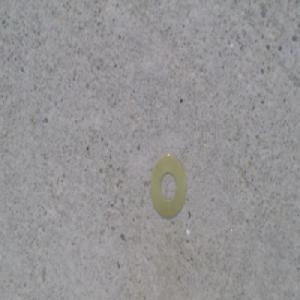Washer: (149, 152, 188, 218)
